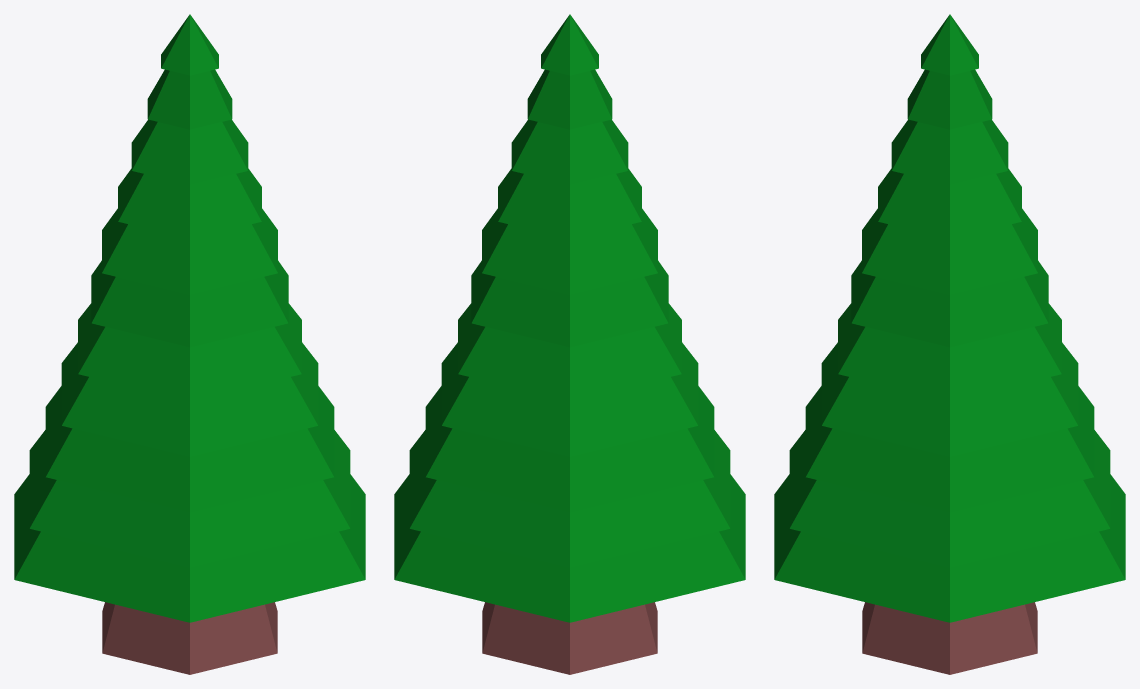
File: trees_slapping_sim.fbx
The picture shows the model from 3 angles, left to right: view 1: azimuth 30°, elevation 25°; view 2: azimuth 150°, elevation 25°; view 3: azimuth 270°, elevation 25°; orthographic projection.
Visible parts, largest first — view 1: pCylinder1; view 2: pCylinder1; view 3: pCylinder1.
Boxes of the visible parts, bbox=[...] form: pCylinder1: bbox=[14, 14, 365, 674]; pCylinder1: bbox=[394, 14, 745, 674]; pCylinder1: bbox=[774, 14, 1125, 674].
Bounding box in the file's own units: 7.73 × 13 × 6.69.
